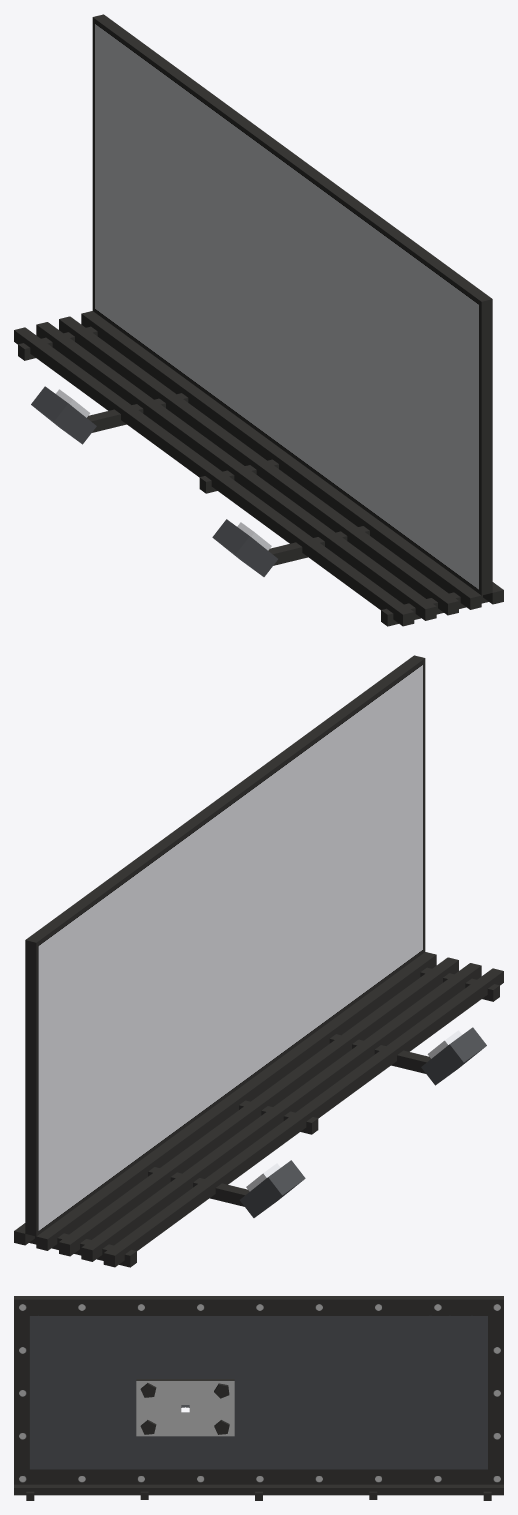
Rendered from b_intact.glb.
The picture shows the model from 3 angles, top to bottom: view 1: azimuth 30°, elevation 25°; view 2: azimuth 150°, elevation 25°; view 3: azimuth 270°, elevation 25°; orthographic projection. The views are drawn at different scales.
Visible parts, largest first — view 1: b; view 2: b; view 3: b.
Part boxes in pixels (x1=…): b: x1=14, y1=14, x2=503, y2=626; b: x1=14, y1=655, x2=503, y2=1267; b: x1=14, y1=1296, x2=503, y2=1500.
Bounding box in the file's own units: 162 × 266 × 600.
1 material, 1 textured.
